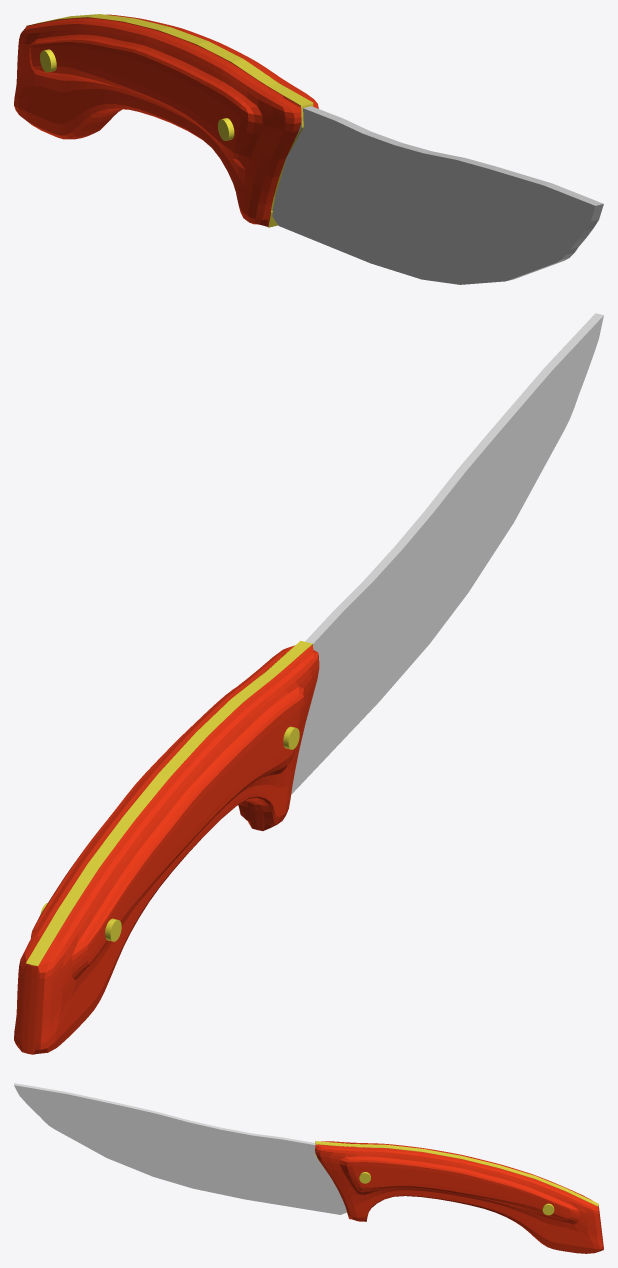
Rendered from Knife.fbx.
The picture shows the model from 3 angles, top to bottom: view 1: azimuth 30°, elevation 25°; view 2: azimuth 150°, elevation 25°; view 3: azimuth 270°, elevation 25°; orthographic projection. The views are drawn at different scales.
Visible parts, largest first — view 1: Plane.001, Plane; view 2: Plane, Plane.001; view 3: Plane.001, Plane.
Part boxes in pixels (bbox=[...]): Plane.001: bbox=[270, 106, 603, 284]; Plane: bbox=[14, 14, 318, 227]; Plane: bbox=[14, 640, 319, 1054]; Plane.001: bbox=[291, 313, 603, 794]; Plane.001: bbox=[14, 1083, 346, 1214]; Plane: bbox=[314, 1141, 603, 1253].
Size of the model in its own units: 41.51 by 184 by 586.
